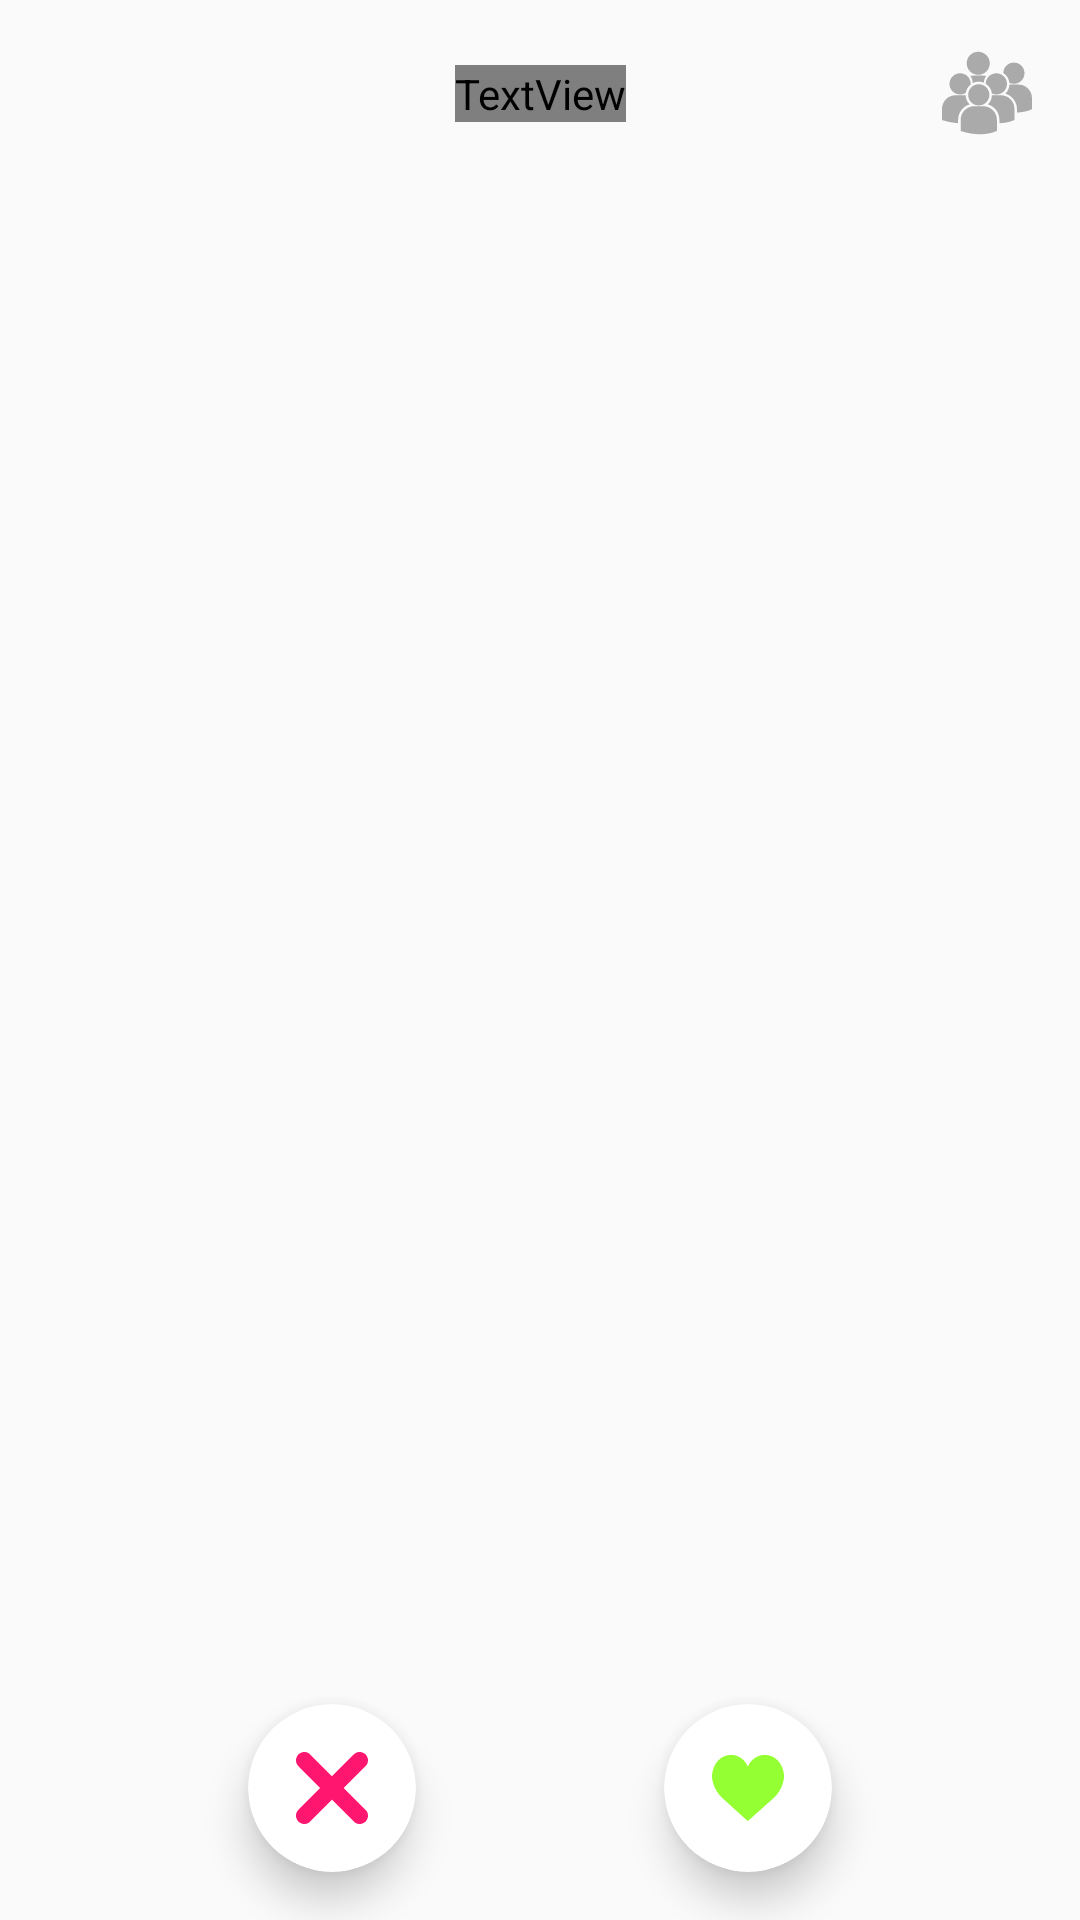

Icon bounding boxes for this 1080x1920 phone screenshot, format (left=x1, top=y1, right=x2, bottom=y2):
dislike: (left=296, top=1752, right=368, bottom=1824)
like: (left=712, top=1755, right=784, bottom=1821)
users group: (left=942, top=52, right=1032, bottom=134)
